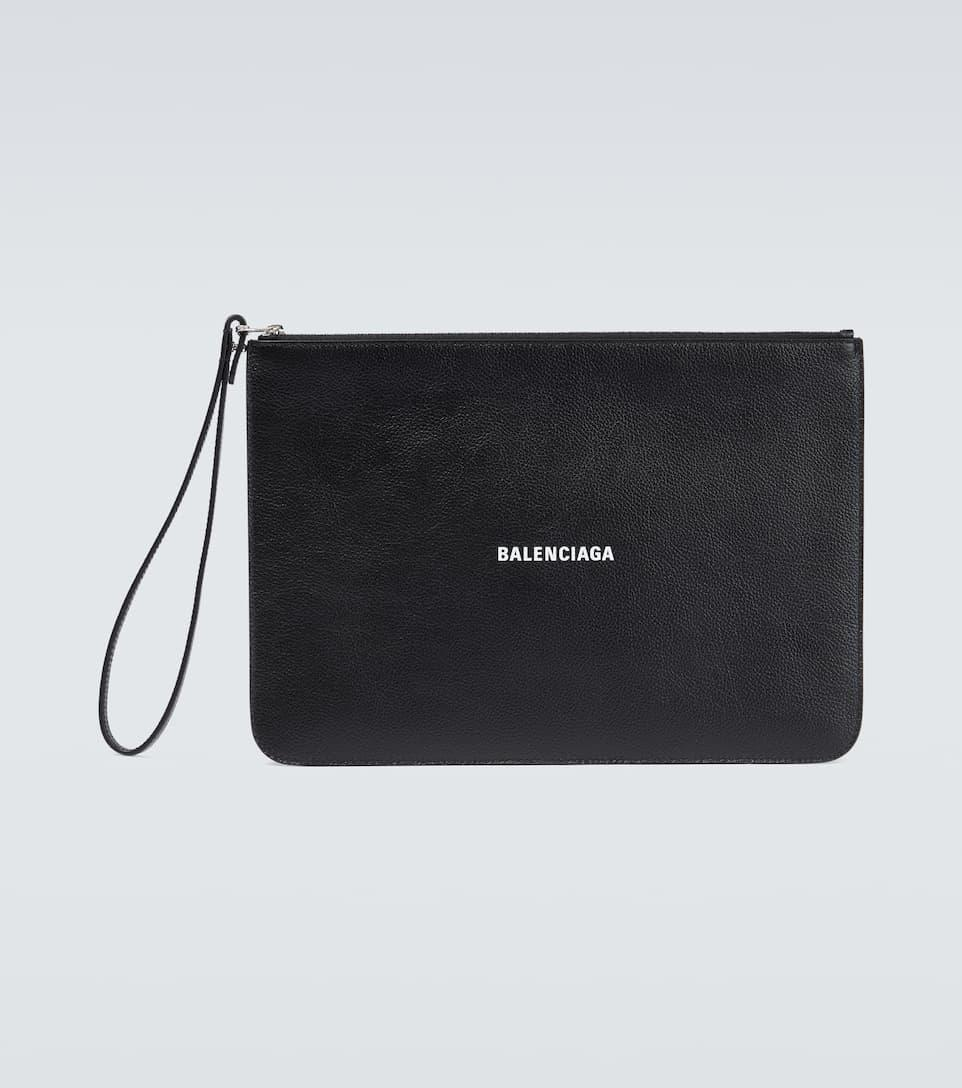BALENCIAGA: (498, 546, 614, 561)
